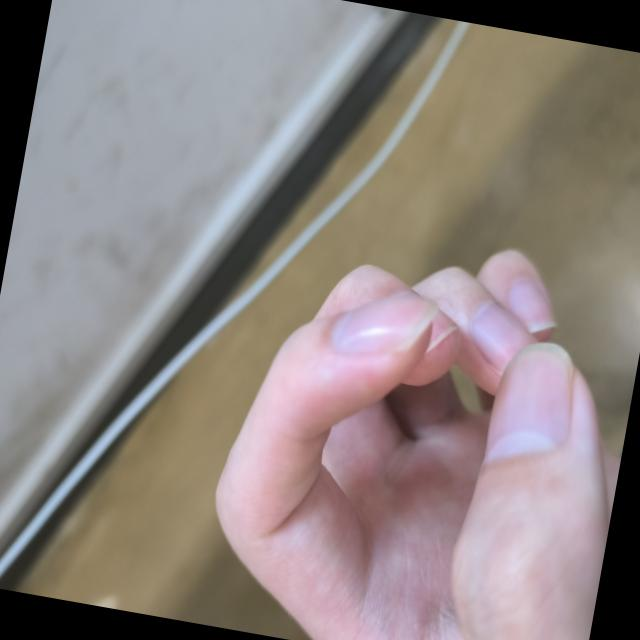Nail: (486, 341, 572, 466), (334, 297, 439, 353), (471, 299, 537, 370), (507, 274, 556, 330)
